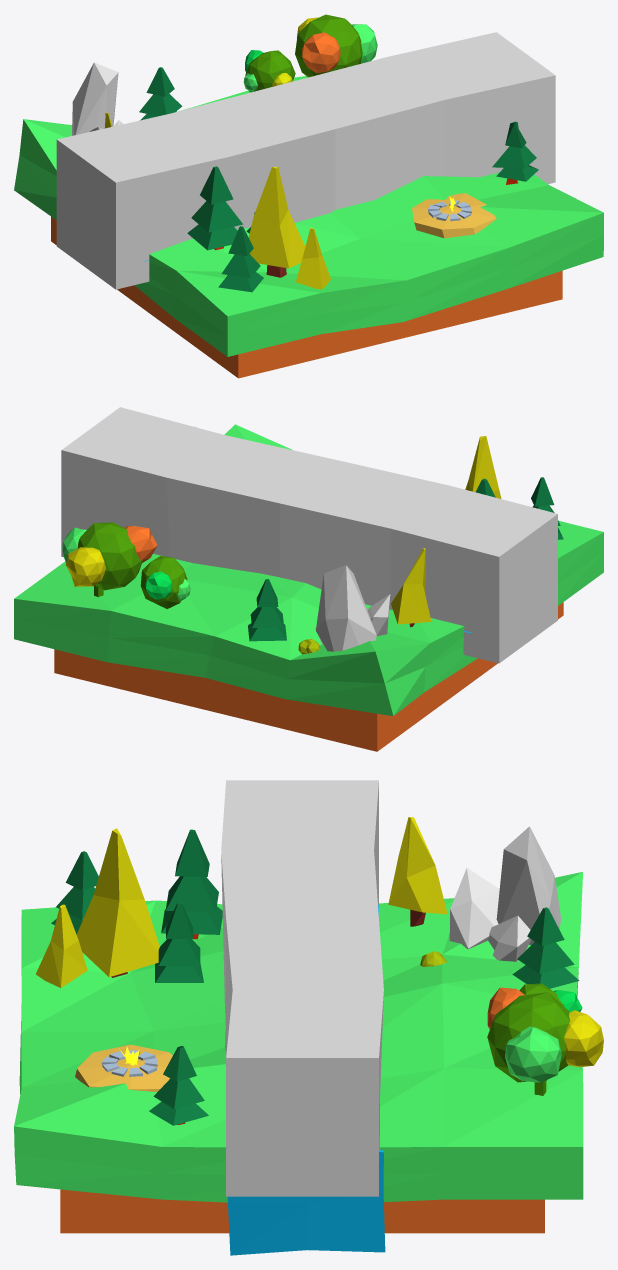
File: river.glb
3 views of the same model, one above another, from view 1: azimuth 30°, elevation 25°; view 2: azimuth 150°, elevation 25°; view 3: azimuth 270°, elevation 25° (orthographic). The views are drawn at different scales.
Parts seen in each view (by area): view 1: Cube.001, Cube, Cube.002, Cube.003, Icosphere, Circle, Icosphere.004, Cube.004, Cube.009, Icosphere.005, Cube.006, Icosphere.010 (+3 smaller); view 2: Cube.001, Cube, Icosphere, Icosphere.004, Cube.007, Cube.008, Icosphere.007, Icosphere.010, Cube.002, Icosphere.005, Icosphere.001, Icosphere.006 (+1 smaller); view 3: Cube, Cube.001, Plane, Cube.002, Icosphere, Icosphere.004, Cube.007, Cube.003, Icosphere.001, Cube.008, Cube.005, Circle (+8 smaller).
Part boxes in pixels (x1=…): Cube.001: x1=56, y1=32, x2=555, y2=289; Cube: x1=14, y1=76, x2=603, y2=378; Cube.002: x1=248, y1=166, x2=305, y2=277; Cube.003: x1=187, y1=166, x2=243, y2=250; Icosphere: x1=72, y1=62, x2=118, y2=135; Circle: x1=412, y1=193, x2=496, y2=238; Icosphere.004: x1=295, y1=14, x2=362, y2=77; Cube.004: x1=218, y1=226, x2=263, y2=292; Cube.009: x1=492, y1=121, x2=538, y2=184; Icosphere.005: x1=302, y1=32, x2=340, y2=73; Cube.006: x1=296, y1=227, x2=330, y2=289; Icosphere.010: x1=245, y1=50, x2=295, y2=92; Cube.001: x1=61, y1=407, x2=557, y2=663; Cube: x1=14, y1=424, x2=603, y2=751; Icosphere: x1=315, y1=565, x2=376, y2=651; Icosphere.004: x1=77, y1=522, x2=142, y2=597; Cube.007: x1=391, y1=548, x2=431, y2=627; Cube.008: x1=248, y1=579, x2=286, y2=641; Icosphere.007: x1=66, y1=547, x2=105, y2=586; Icosphere.010: x1=140, y1=556, x2=187, y2=608; Cube.002: x1=465, y1=436, x2=501, y2=498; Icosphere.005: x1=124, y1=526, x2=157, y2=562; Icosphere.001: x1=367, y1=594, x2=390, y2=636; Icosphere.006: x1=145, y1=571, x2=172, y2=599; Cube: x1=14, y1=872, x2=583, y2=1233; Cube.001: x1=221, y1=780, x2=383, y2=1196; Plane: x1=225, y1=905, x2=385, y2=1255; Cube.002: x1=76, y1=828, x2=159, y2=977; Icosphere: x1=496, y1=826, x2=560, y2=944; Icosphere.004: x1=487, y1=992, x2=570, y2=1095; Cube.007: x1=388, y1=817, x2=447, y2=926; Cube.003: x1=161, y1=829, x2=222, y2=939; Icosphere.001: x1=449, y1=868, x2=499, y2=949; Cube.008: x1=512, y1=907, x2=579, y2=988; Cube.005: x1=155, y1=902, x2=203, y2=982; Circle: x1=75, y1=1044, x2=172, y2=1091.
Bounding box in the file's own units: 8.13 × 3.29 × 7.3.
